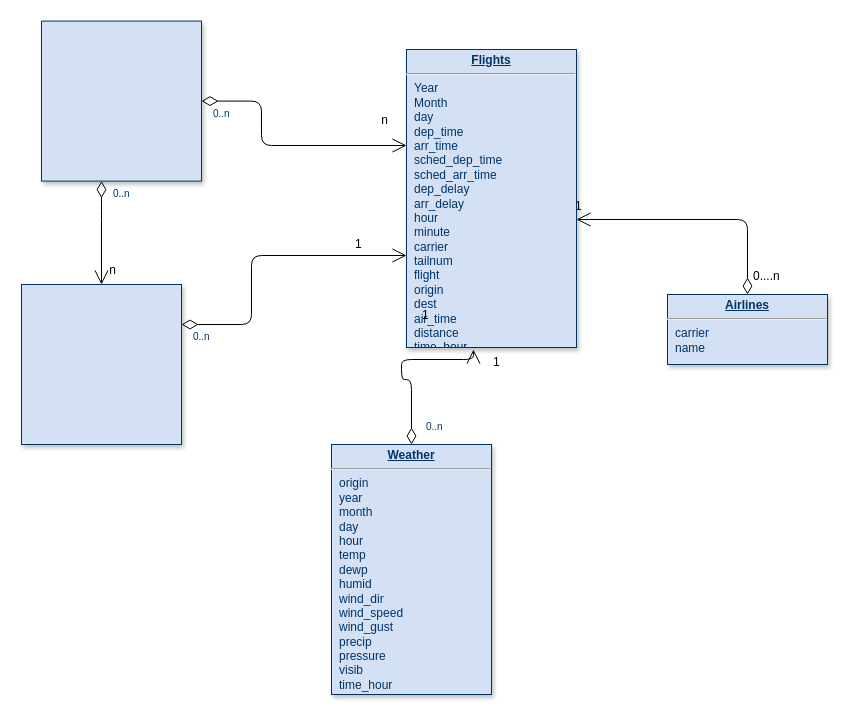
Image size: 851x720. Some labels were removed from this diagram. Each missing label, with the centre of its shape:
Airports faa name lat lon alt tz dst tzone: [122,102]
Planes tailnum year type manufacturer model engines seats speed engine: [102,366]
